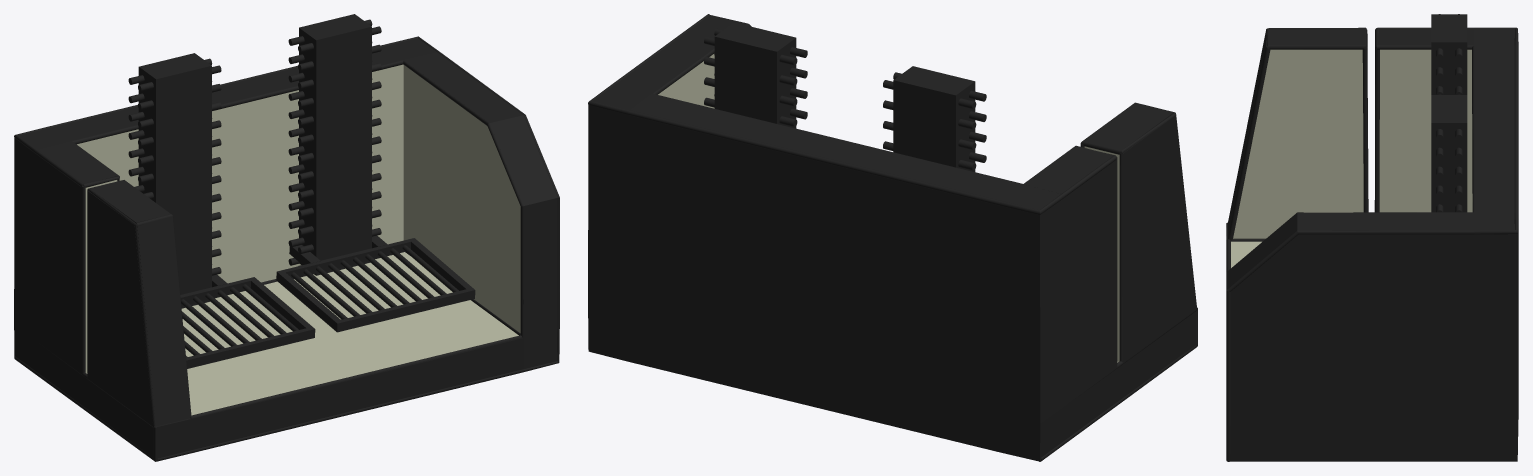
The model's file is parrilla_model_v2.glb.
3 views of the same model, side by side, from view 1: azimuth 30°, elevation 25°; view 2: azimuth 150°, elevation 25°; view 3: azimuth 270°, elevation 25° (orthographic). The views are drawn at different scales.
Parts seen in each view (by area): view 1: estructura_tapa, estructura_base, base_parrilla.001, base_parrilla, estructura_bordeado, Parrilla cuadrado.001, Parrilla rejillas.001, Parrilla cuadrado, Parrilla rejillas, Cylinder.008, Cylinder.003, Cylinder.002 (+3 smaller); view 2: estructura_tapa, estructura_bordeado, base_parrilla.001, base_parrilla, estructura_base; view 3: estructura_tapa, estructura_base, estructura_bordeado, base_parrilla.001, base_parrilla, Cylinder.001, Cylinder.002.
Part boxes in pixels (<box>): estructura_tapa: <box>14,38,559,458</box>; estructura_base: <box>77,64,520,415</box>; base_parrilla.001: <box>299,14,371,275</box>; base_parrilla: <box>138,53,211,308</box>; estructura_bordeado: <box>14,36,559,461</box>; Parrilla cuadrado.001: <box>276,238,475,332</box>; Parrilla rejillas.001: <box>291,245,458,319</box>; Parrilla cuadrado: <box>180,277,315,368</box>; Parrilla rejillas: <box>181,284,298,357</box>; Cylinder.008: <box>288,36,304,265</box>; Cylinder.003: <box>298,43,313,265</box>; Cylinder.002: <box>372,26,381,236</box>; estructura_tapa: <box>588,15,1197,461</box>; estructura_bordeado: <box>588,14,1197,461</box>; base_parrilla.001: <box>714,22,796,128</box>; base_parrilla: <box>893,66,975,171</box>; estructura_base: <box>658,54,1119,362</box>; estructura_tapa: <box>1226,28,1518,461</box>; estructura_base: <box>1231,49,1472,267</box>; estructura_bordeado: <box>1226,27,1518,461</box>; base_parrilla.001: <box>1431,95,1467,212</box>; base_parrilla: <box>1431,14,1467,94</box>; Cylinder.001: <box>1455,129,1462,212</box>; Cylinder.002: <box>1436,129,1443,212</box>.
Size of the model in its own units: 4.05 by 2.73 by 2.45.
